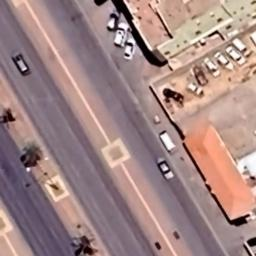SUV: (112, 22, 130, 50)
sedan: (9, 48, 34, 80), (152, 155, 177, 181), (200, 56, 224, 80), (160, 84, 186, 106), (212, 50, 235, 74), (190, 61, 208, 89), (223, 46, 247, 66), (105, 6, 121, 35), (185, 78, 206, 98), (122, 38, 138, 62)
van: (156, 128, 180, 156)
